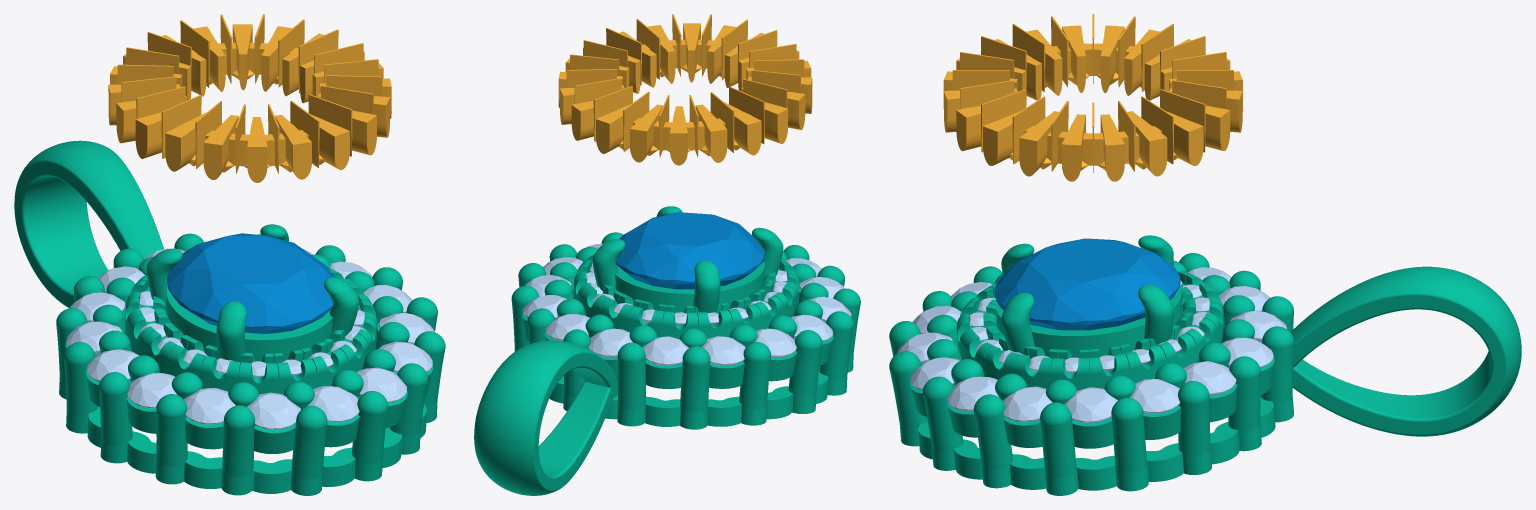
3 renders of one model, left to right at view 1: azimuth 30°, elevation 25°; view 2: azimuth 150°, elevation 25°; view 3: azimuth 270°, elevation 25°, orthographic. The views are drawn at different scales.
Visible parts, largest first — view 1: VBP186(base).3dm, Micro Pave Cut Channel Cutter (×32), Diamond_Oval, Diamond_Round (×12), Bezel (×5), Head Prong (×3), Channel Cutter; view 2: VBP186(base).3dm, Micro Pave Cut Channel Cutter (×30), Diamond_Oval, Diamond_Round (×8), Bezel (×4), Head Prong (×3), Channel Cutter; view 3: VBP186(base).3dm, Micro Pave Cut Channel Cutter (×27), Diamond_Oval, Diamond_Round (×9), Bezel (×6), Head Prong (×2), Channel Cutter.
Part boxes in pixels (<box>): VBP186(base).3dm: <box>14,140,445,495</box>; Micro Pave Cut Channel Cutter (×32): <box>108,19,390,182</box>; Diamond_Oval: <box>167,233,334,333</box>; Diamond_Round (×12): <box>66,266,434,429</box>; Bezel (×5): <box>126,287,359,453</box>; Head Prong (×3): <box>146,248,359,361</box>; Channel Cutter: <box>176,42,308,166</box>; VBP186(base).3dm: <box>474,232,860,495</box>; Micro Pave Cut Channel Cutter (×30): <box>560,19,805,165</box>; Diamond_Oval: <box>615,212,764,289</box>; Diamond_Round (×8): <box>523,295,851,365</box>; Bezel (×4): <box>615,262,797,388</box>; Head Prong (×3): <box>592,227,783,313</box>; Channel Cutter: <box>633,39,751,150</box>; VBP186(base).3dm: <box>889,253,1521,495</box>; Micro Pave Cut Channel Cutter (×27): <box>952,24,1233,181</box>; Diamond_Oval: <box>994,238,1180,330</box>; Diamond_Round (×9): <box>896,311,1286,423</box>; Bezel (×6): <box>947,286,1237,448</box>; Head Prong (×2): <box>1001,284,1173,353</box>; Channel Cutter: <box>1024,43,1161,165</box>.
Bounding box in the file's own units: 2.05 × 2.07 × 3.29.
